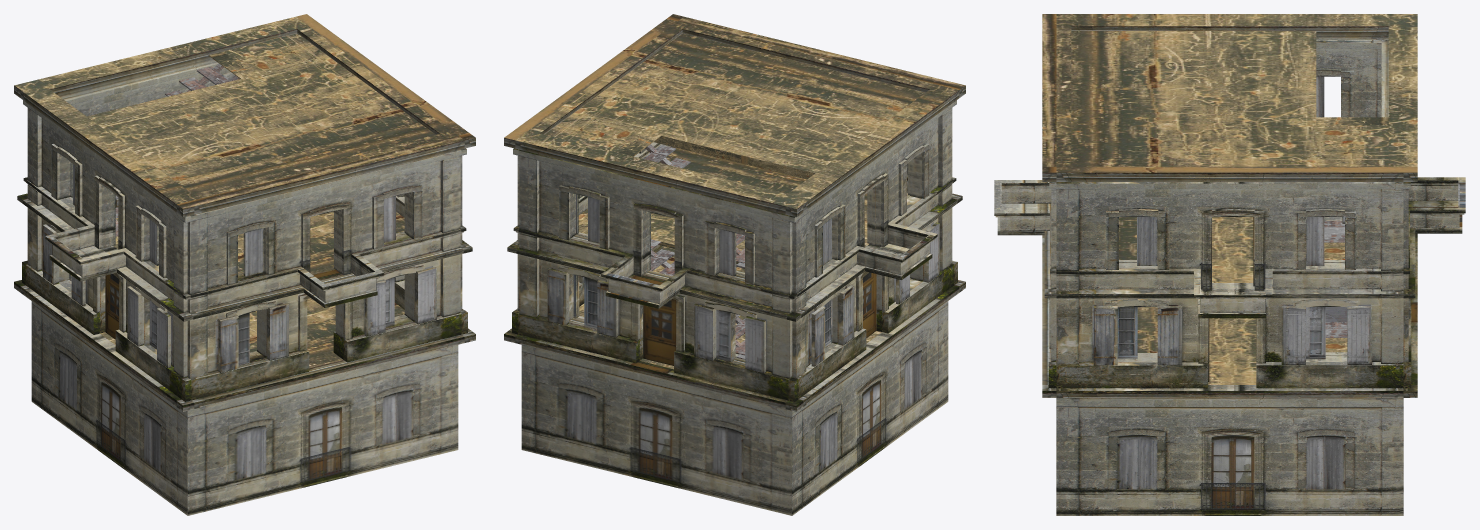
Rendered from BagBuilding20High.fbx.
The picture shows the model from 3 angles, left to right: view 1: azimuth 30°, elevation 25°; view 2: azimuth 150°, elevation 25°; view 3: azimuth 270°, elevation 25°; orthographic projection. The views are drawn at different scales.
Parts seen in each view (by area): view 1: mainA300, floorsA300, stairsA300; view 2: mainA300, floorsA300, stairsA300; view 3: mainA300, floorsA300, stairsA300.
Part boxes in pixels (<box>): mainA300: <box>14,29,475,515</box>; floorsA300: <box>14,14,475,368</box>; stairsA300: <box>70,63,239,280</box>; mainA300: <box>504,29,965,515</box>; floorsA300: <box>504,14,965,368</box>; stairsA300: <box>634,144,745,359</box>; mainA300: <box>994,26,1465,515</box>; floorsA300: <box>1042,14,1417,384</box>; stairsA300: <box>1324,221,1347,337</box>.
Size of the model in its own units: 22.81 by 18.66 by 22.81.
